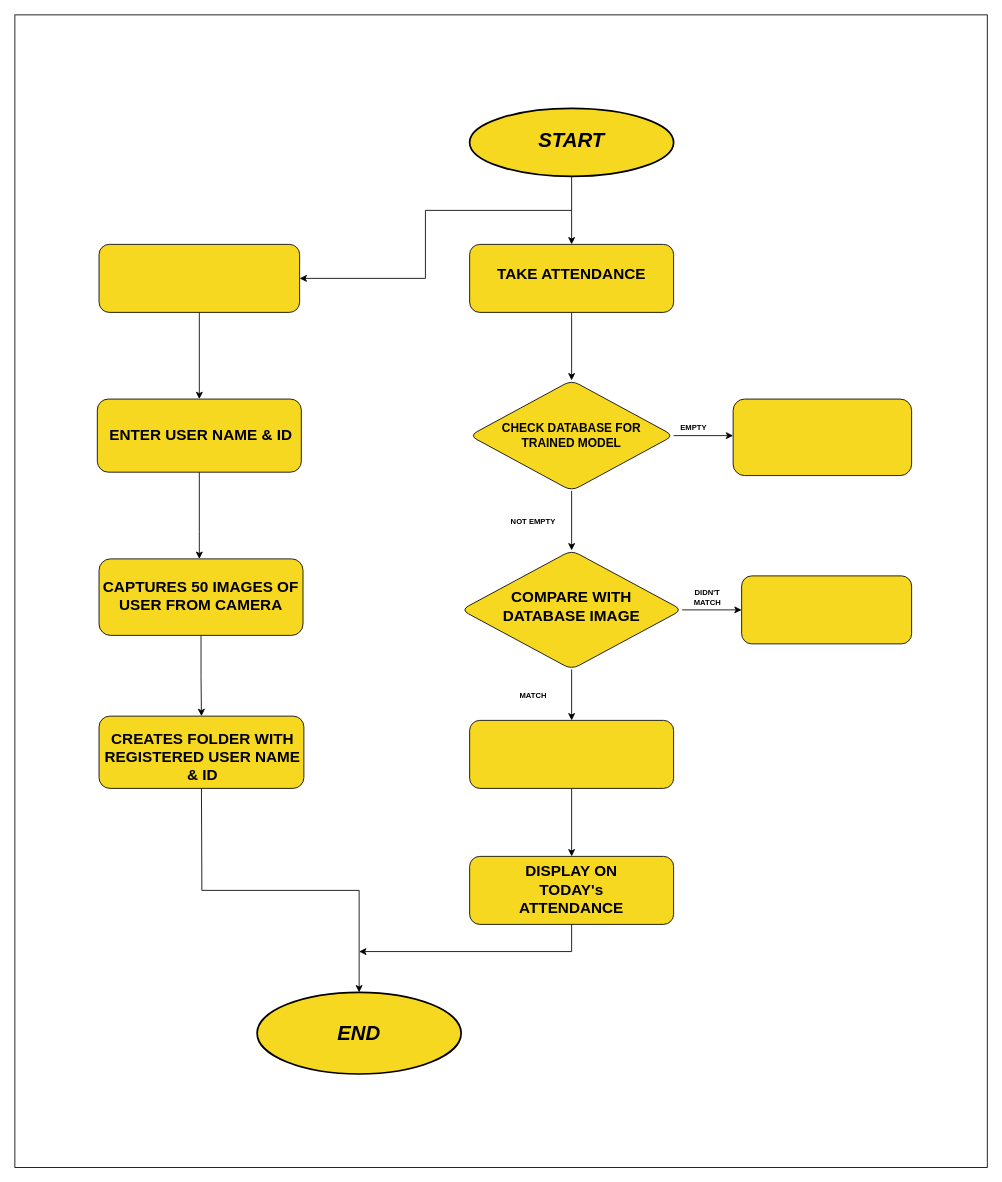
Some shapes in this 1002 by 1182 pixel diagram are drawn without their labels. The shapes that lost their labels are listed below. From the top down, each one's centre as x and y in pixels, then its label:
At (199,278): "ADD NEW USER".
At (822,437): "PLEASE ADD A NEW FACE".
At (826,609): "MARK UNKNOWN & ASK TO REGISTER AS NEW USER".
At (571,754): "RECORD ATTENDANCE".
